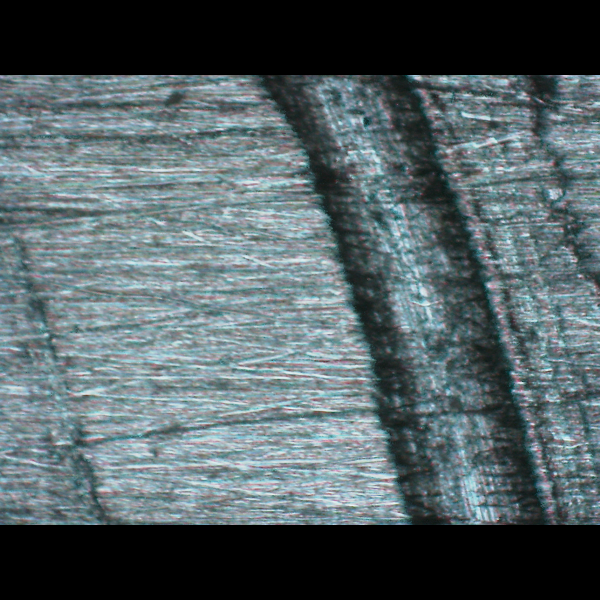d: (239, 75, 600, 523)
